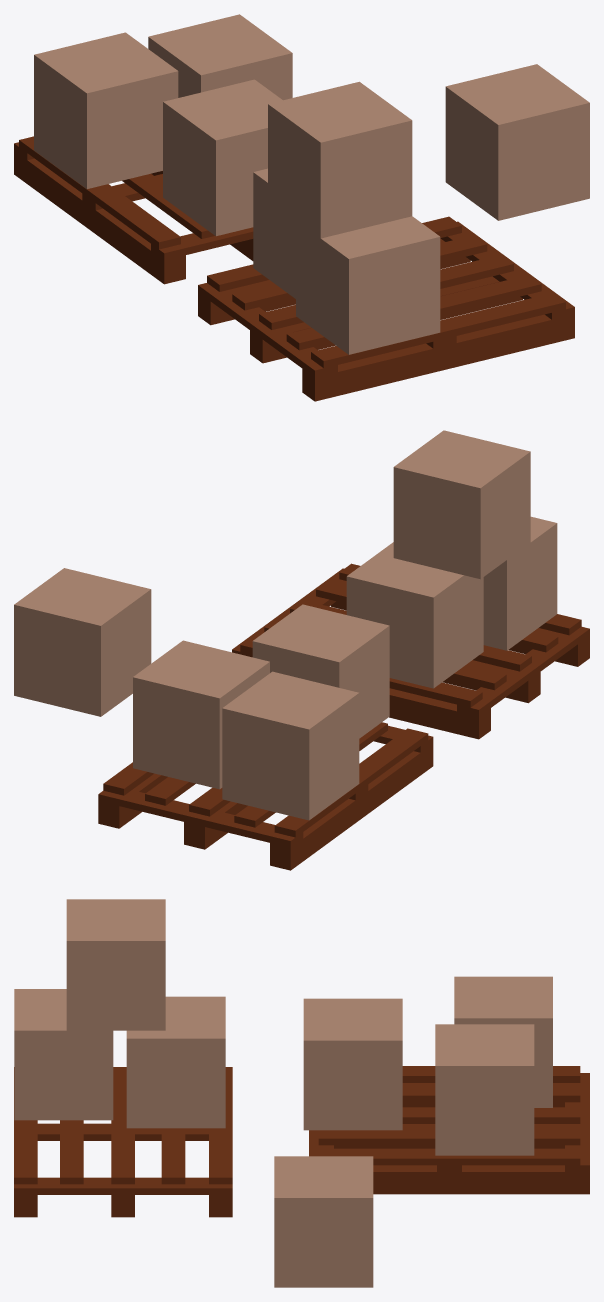
3 renders of one model, top to bottom at view 1: azimuth 30°, elevation 25°; view 2: azimuth 150°, elevation 25°; view 3: azimuth 270°, elevation 25°, orthographic. The views are drawn at different scales.
Visible parts, largest first — view 1: Box_01; view 2: Box_01; view 3: Box_01.
Boxes of the visible parts, x1,y1,x2,y2 form: Box_01: [14, 14, 589, 401]; Box_01: [14, 430, 589, 870]; Box_01: [14, 899, 589, 1287].
Size of the model in its own units: 7.9 by 4.19 by 10.16.
